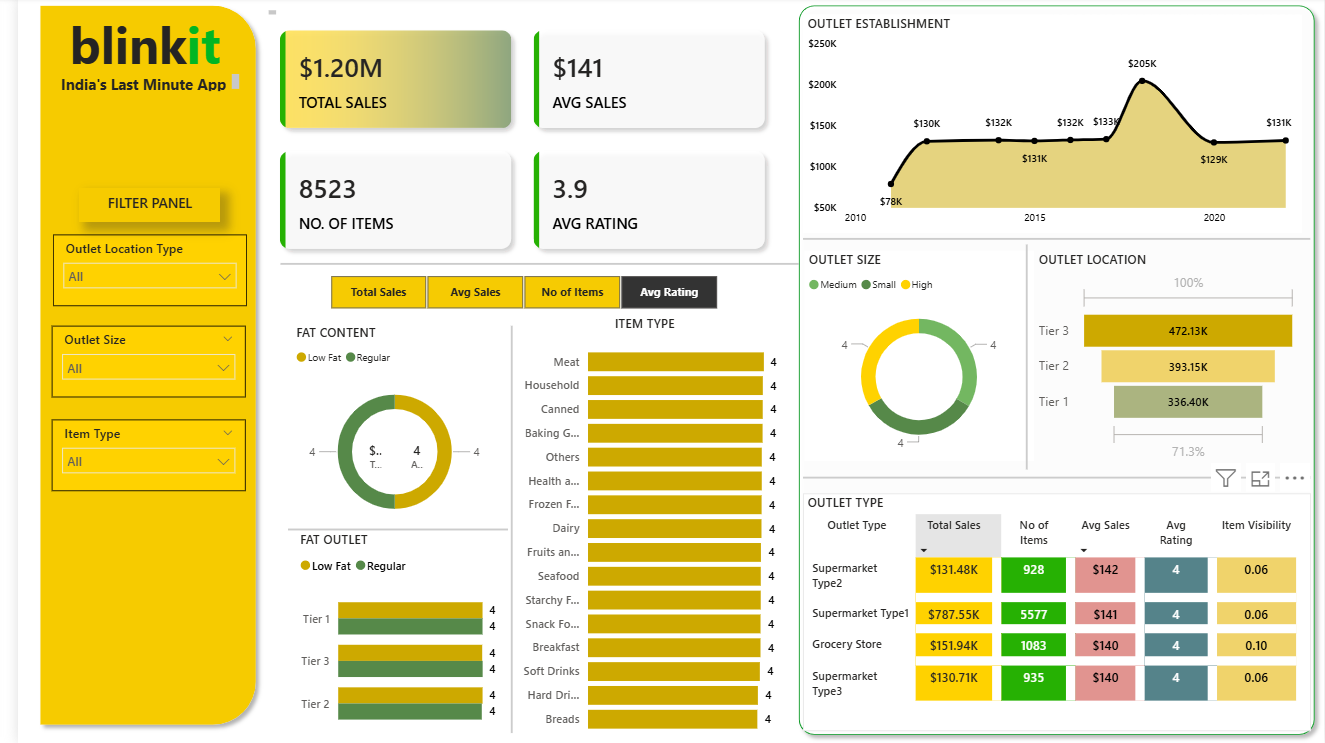

What the dashboard file says about the page in this screenshot:
{"tool":"powerbi","page":{"name":"Page 1","canvas":[1400,800],"ordinal":0},"visuals":[{"type":"shape","box":[14.7,0,249.3,789.5],"z":0},{"type":"textbox","box":[0,9.4,281.5,68.4],"z":1000},{"type":"textbox","box":[34.9,77.7,207.8,28.2],"z":2000},{"type":"shape","box":[828.4,0,571,800.3],"z":3000},{"type":"donutChart","title":"FAT CONTENT","fields":{"Y":["BlinkIT Grocery Data.Avg Rating"],"Category":["BlinkIT Grocery Data.Item Fat Content"]},"box":[293.6,349.9,221.2,230.6],"z":4000},{"type":"slicer","fields":{"Values":["Metrics.Metrics"]},"box":[309.7,292.2,463.8,48.3],"z":5000},{"type":"cardVisual","fields":{"Data":["BlinkIT Grocery Data.Total Sales","BlinkIT Grocery Data.Avg Rating"]},"box":[359.3,459.8,92.5,61.7],"z":6000},{"type":"clusteredBarChart","title":"FAT OUTLET","fields":{"Y":["BlinkIT Grocery Data.Avg Rating"],"Category":["BlinkIT Grocery Data.Outlet Location Type"],"Series":["BlinkIT Grocery Data.Item Fat Content"]},"box":[297.6,572.4,219.8,227.9],"z":7000},{"type":"shape","box":[289.5,561.7,235.9,18.8],"z":8000},{"type":"shape","box":[517.4,352.5,24.1,437],"z":9000},{"type":"barChart","title":"ITEM TYPE","fields":{"Y":["BlinkIT Grocery Data.Avg Rating"],"Category":["BlinkIT Grocery Data.Item Type"]},"box":[525.5,340.5,293.6,459.8],"z":10000},{"type":"lineChart","title":"  OUTLET ESTABLISHMENT","fields":{"Category":["BlinkIT Grocery Data.Outlet Establishment Year"],"Y":["BlinkIT Grocery Data.Total Sales"]},"box":[841.8,18.8,534.9,234.6],"z":11000},{"type":"shape","box":[841.8,253.4,544.2,12.1],"z":12000},{"type":"donutChart","title":"OUTLET SIZE","fields":{"Y":["BlinkIT Grocery Data.Avg Rating"],"Category":["BlinkIT Grocery Data.Outlet Size"]},"box":[843.2,272.1,246.7,225.2],"z":13000},{"type":"shape","box":[1073.7,265.4,16.1,241.3],"z":14000},{"type":"funnel","title":" OUTLET LOCATION","fields":{"Y":["Sum(BlinkIT Grocery Data.Sales)"],"Category":["BlinkIT Grocery Data.Outlet Location Type"]},"box":[1089.8,272.1,286.9,230.6],"z":15000},{"type":"shape","box":[841.8,509.4,544.2,12.1],"z":16000},{"type":"pivotTable","title":"OUTLET TYPE","fields":{"Rows":["BlinkIT Grocery Data.Outlet Type"],"Values":["BlinkIT Grocery Data.Total Sales","BlinkIT Grocery Data.No of Items","BlinkIT Grocery Data.Avg Sales","BlinkIT Grocery Data.Avg Rating","Avg(BlinkIT Grocery Data.Item Visibility)"]},"box":[841.8,532.2,544.2,254.7],"z":17000},{"type":"cardVisual","fields":{"Data":["BlinkIT Grocery Data.Total Sales","BlinkIT Grocery Data.Avg Sales","BlinkIT Grocery Data.No of Items","BlinkIT Grocery Data.Avg Rating"]},"box":[264.1,18.8,555,268.1],"z":18000},{"type":"shape","box":[281.5,280.2,556.3,12.1],"z":19000},{"type":"slicer","fields":{"Values":["BlinkIT Grocery Data.Outlet Location Type"]},"box":[37.5,254.7,207.8,76.4],"z":20000},{"type":"slicer","fields":{"Values":["BlinkIT Grocery Data.Outlet Size"]},"box":[36.2,352.5,207.8,76.4],"z":21000},{"type":"slicer","fields":{"Values":["BlinkIT Grocery Data.Item Type"]},"box":[36.2,453.1,207.8,76.4],"z":22000},{"type":"textbox","box":[44.2,87.1,207.8,28.2],"z":23000},{"type":"textbox","box":[65.7,205.1,151.5,36.2],"z":24000}]}

Visuals, with their boxes in screenshot pixels (x1, y1, x2, y2), scaled from the page's 1400x800 canvas onto the 1325x743 screenshot:
shape: bbox=[14, 0, 250, 733]
textbox: bbox=[0, 9, 266, 72]
textbox: bbox=[33, 72, 230, 98]
shape: bbox=[784, 0, 1324, 742]
"FAT CONTENT" donutChart: bbox=[278, 325, 487, 539]
slicer - Metrics.Metrics: bbox=[293, 271, 732, 316]
cardVisual - BlinkIT Grocery Data.Total Sales x BlinkIT Grocery Data.Avg Rating: bbox=[340, 427, 428, 484]
"FAT OUTLET" clusteredBarChart: bbox=[282, 532, 490, 742]
shape: bbox=[274, 522, 497, 539]
shape: bbox=[490, 327, 512, 733]
"ITEM TYPE" barChart: bbox=[497, 316, 775, 742]
"  OUTLET ESTABLISHMENT" lineChart: bbox=[797, 17, 1303, 235]
shape: bbox=[797, 235, 1312, 247]
"OUTLET SIZE" donutChart: bbox=[798, 253, 1032, 462]
shape: bbox=[1016, 246, 1031, 471]
" OUTLET LOCATION" funnel: bbox=[1031, 253, 1303, 467]
shape: bbox=[797, 473, 1312, 484]
"OUTLET TYPE" pivotTable: bbox=[797, 494, 1312, 731]
cardVisual - BlinkIT Grocery Data.Total Sales x BlinkIT Grocery Data.Avg Sales: bbox=[250, 17, 775, 266]
shape: bbox=[266, 260, 793, 271]
slicer - BlinkIT Grocery Data.Outlet Location Type: bbox=[35, 237, 232, 308]
slicer - BlinkIT Grocery Data.Outlet Size: bbox=[34, 327, 231, 398]
slicer - BlinkIT Grocery Data.Item Type: bbox=[34, 421, 231, 492]
textbox: bbox=[42, 81, 238, 107]
textbox: bbox=[62, 190, 206, 224]
